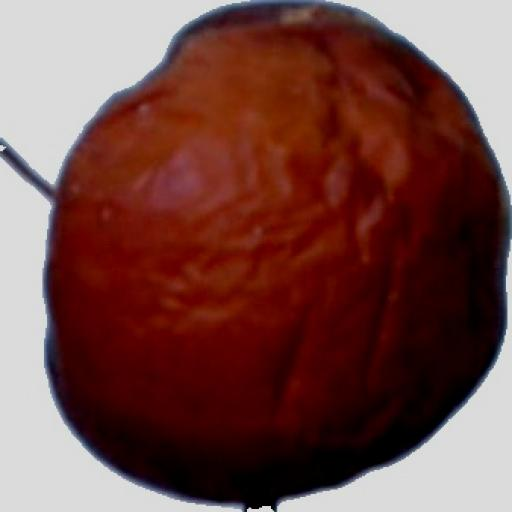apple-overripe: (3, 4, 510, 483)
